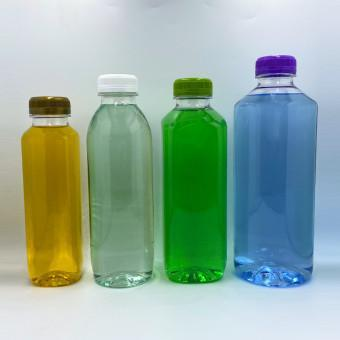bottle: (231, 55, 318, 287), (84, 73, 159, 289), (159, 78, 228, 284), (16, 92, 85, 290)
